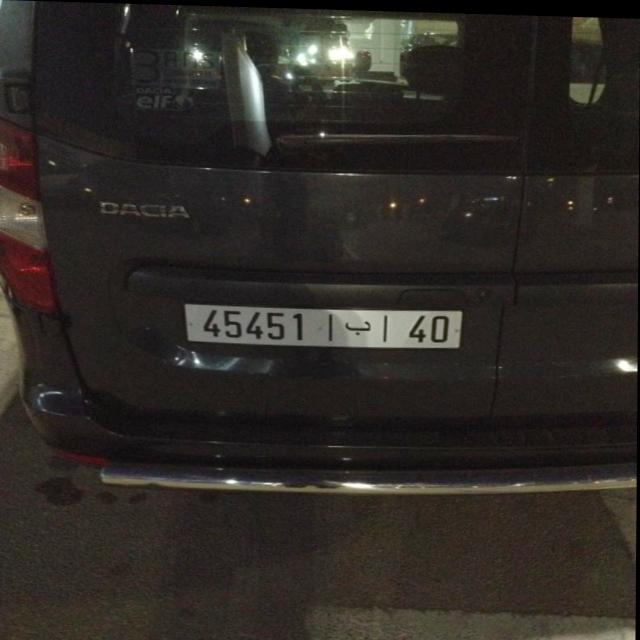License-Plate: (185, 304, 463, 346)
